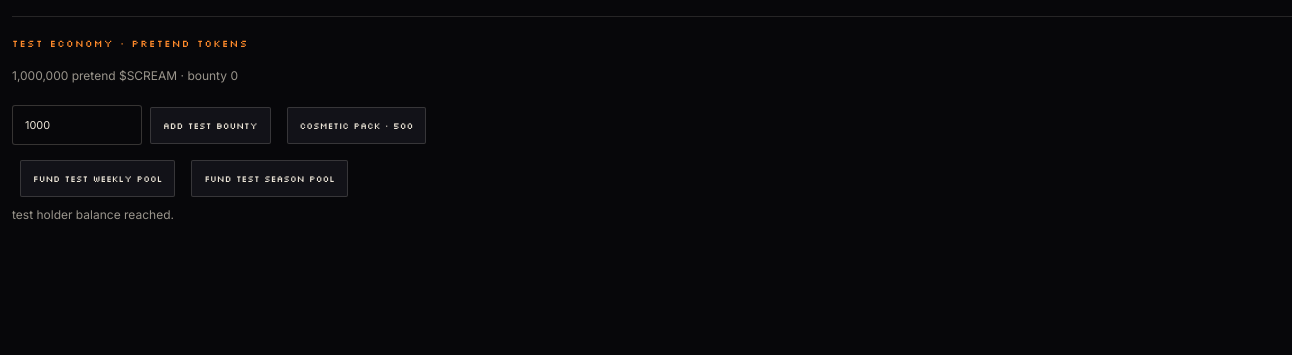
reuses the operation after an ambiguous response and does not retry a transfer after a confirmed ack with a failed balance refresh
Click the button "ADD TEST BOUNTY" at (210, 125), box [150,107,270,144]
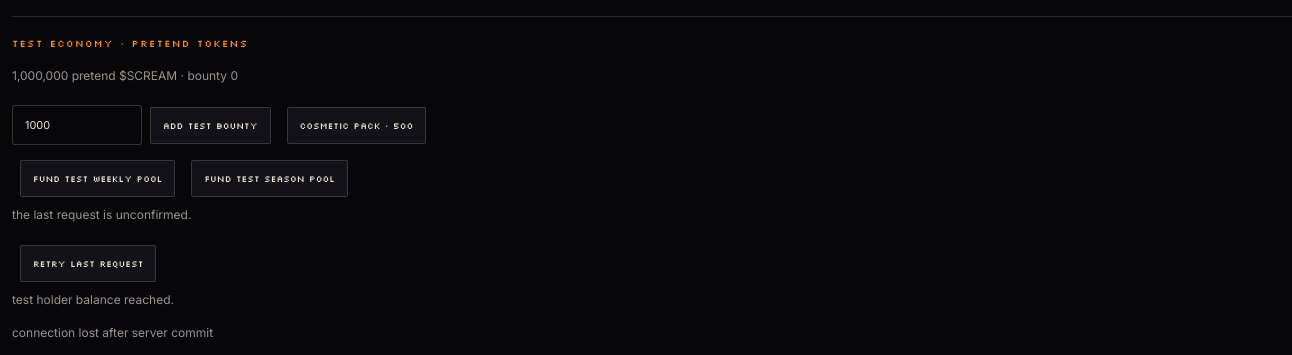
Click the button "RETRY LAST REQUEST" at (88, 264), box [20,245,156,282]
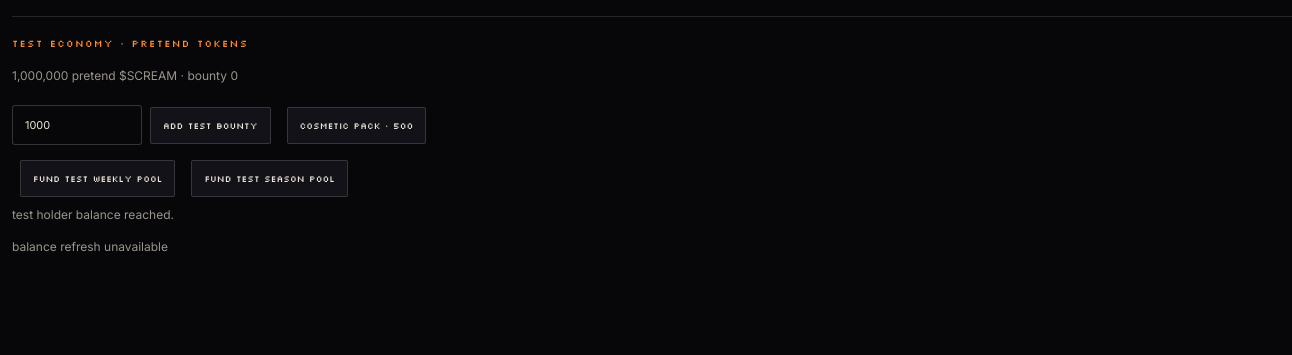
expect the text "balance refresh unavailable" is shown: met, box [12,239,168,254]
expect the button "RETRY LAST REQUEST" is gone: met
